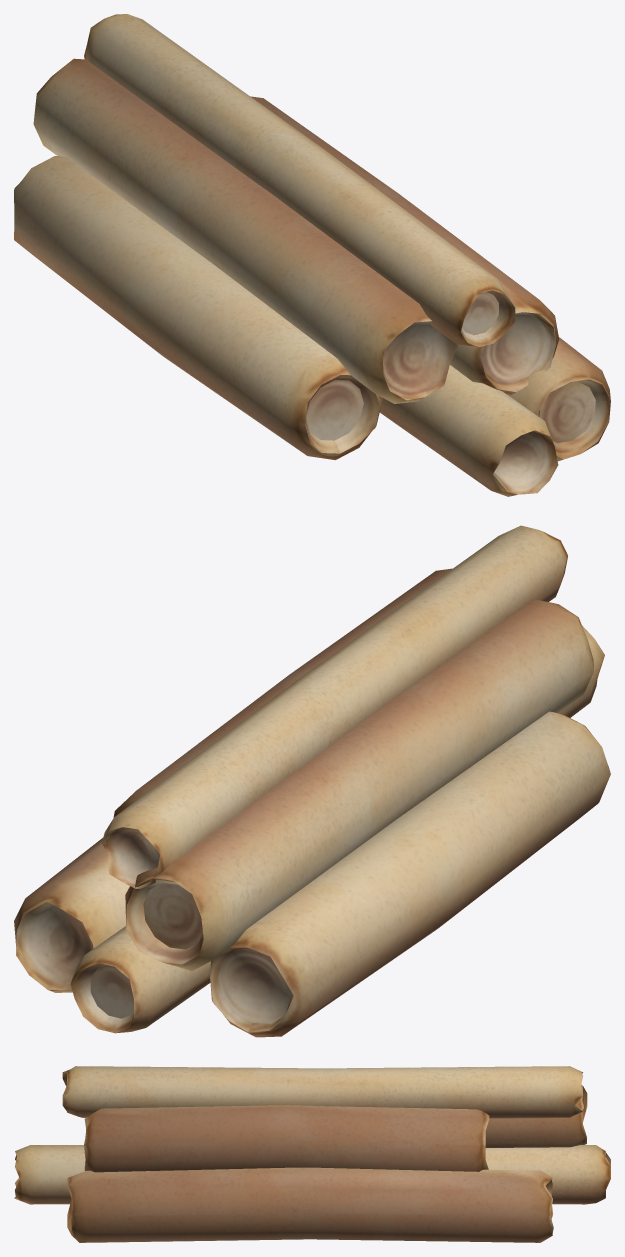
Rendered from SM_Scrollpile_A.fbx.
3 renders of one model, top to bottom at view 1: azimuth 30°, elevation 25°; view 2: azimuth 150°, elevation 25°; view 3: azimuth 270°, elevation 25°, orthographic. The views are drawn at different scales.
Visible parts, largest first — view 1: SM_Scrollpile_A_LOD0; view 2: SM_Scrollpile_A_LOD0; view 3: SM_Scrollpile_A_LOD0.
Part boxes in pixels (bbox=[...]): SM_Scrollpile_A_LOD0: bbox=[14, 14, 610, 496]; SM_Scrollpile_A_LOD0: bbox=[14, 525, 610, 1037]; SM_Scrollpile_A_LOD0: bbox=[14, 1066, 610, 1242].
Size of the model in its own units: 22.4 by 60.6 by 15.76.
1 material, 1 textured.
